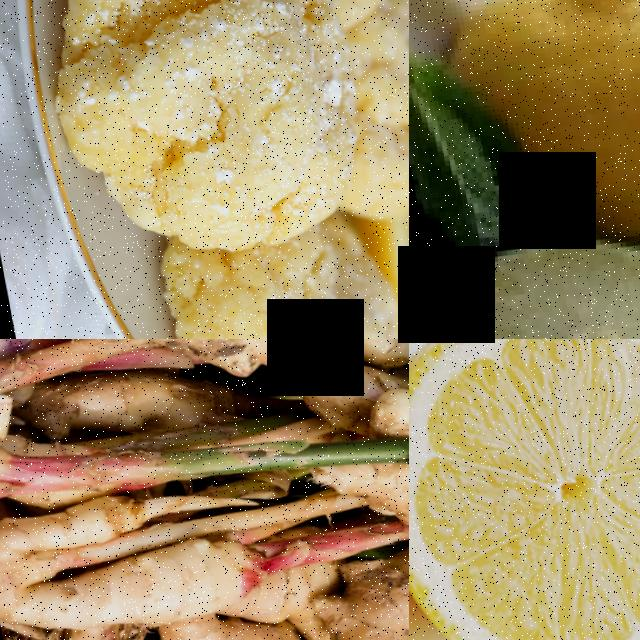ginger: (0, 339, 409, 435), (0, 518, 314, 640), (297, 531, 409, 640)
lemon: (409, 339, 640, 639), (486, 0, 640, 247), (409, 203, 640, 339)
